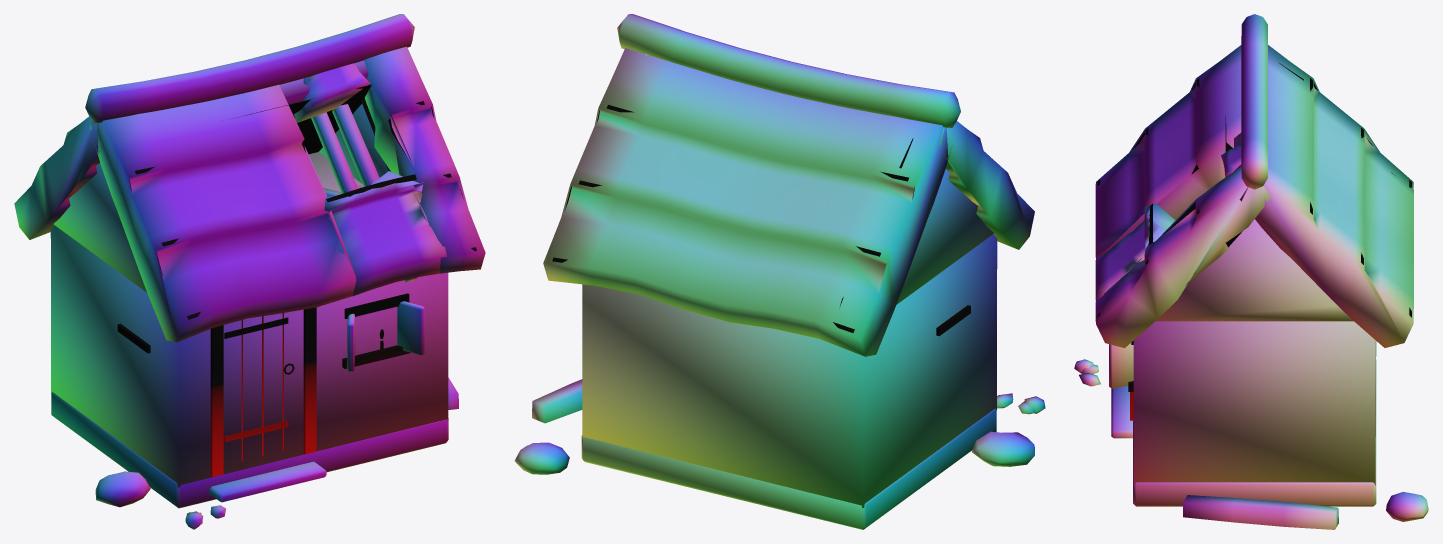
File: SM_Prop_March_AshwheatCottage_A.fbx
3 views of the same model, side by side, from view 1: azimuth 30°, elevation 25°; view 2: azimuth 150°, elevation 25°; view 3: azimuth 270°, elevation 25° (orthographic). The views are drawn at different scales.
Visible parts, largest first — view 1: SM_Prop_March_AshwheatCottage_A; view 2: SM_Prop_March_AshwheatCottage_A; view 3: SM_Prop_March_AshwheatCottage_A.
Part boxes in pixels (x1=…): SM_Prop_March_AshwheatCottage_A: x1=14, y1=14, x2=485, y2=529; SM_Prop_March_AshwheatCottage_A: x1=514, y1=14, x2=1045, y2=529; SM_Prop_March_AshwheatCottage_A: x1=1074, y1=14, x2=1428, y2=529.
Bounding box in the file's own units: 3.51 × 3.19 × 2.84.
